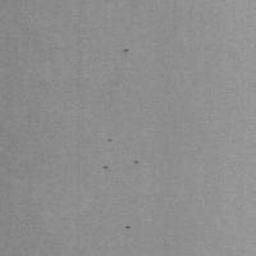Inclusion: (123, 47, 131, 54), (133, 160, 141, 165), (102, 165, 109, 170)
